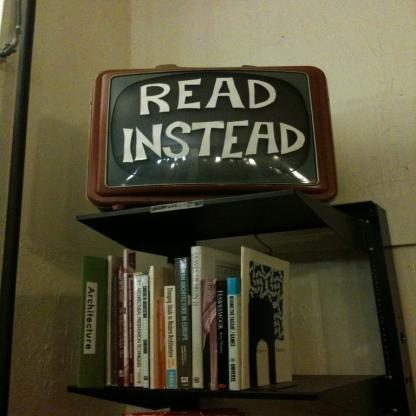book: (84, 248, 292, 394), (191, 246, 240, 386)
